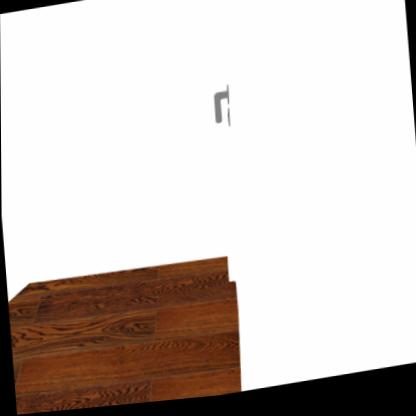Wooden floor: (8, 261, 241, 415)
